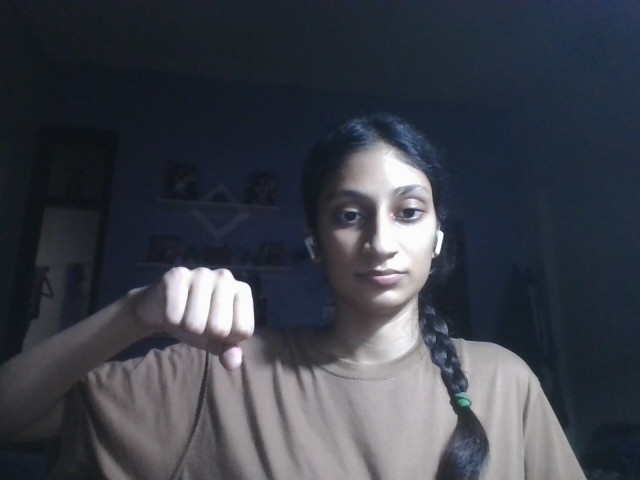yes: (144, 265, 268, 370)
